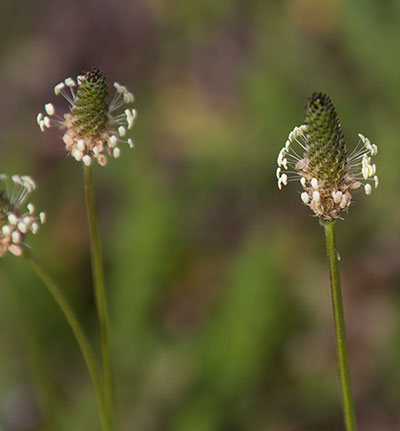buckhorn plantain: (44, 57, 155, 424), (288, 87, 375, 347)
